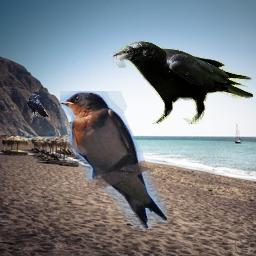Crow: (110, 41, 253, 124), (27, 94, 49, 118)
Swallow: (60, 91, 167, 229)
